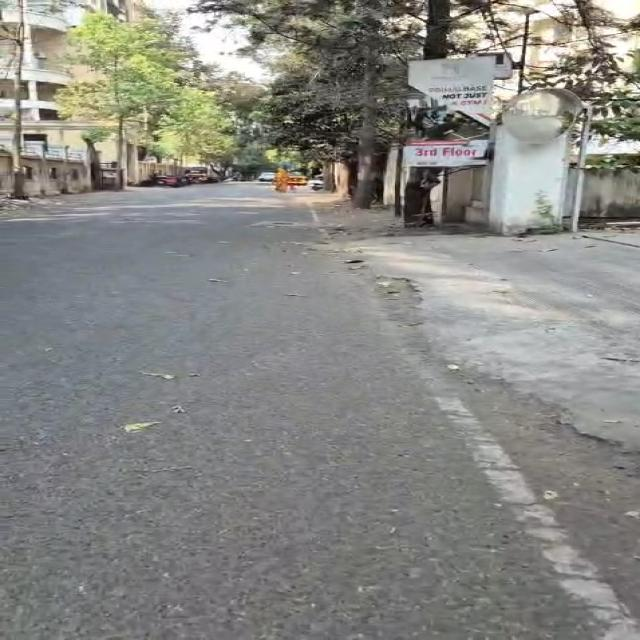tree: (196, 0, 531, 166), (57, 14, 180, 188), (158, 88, 234, 162), (0, 0, 26, 199)
